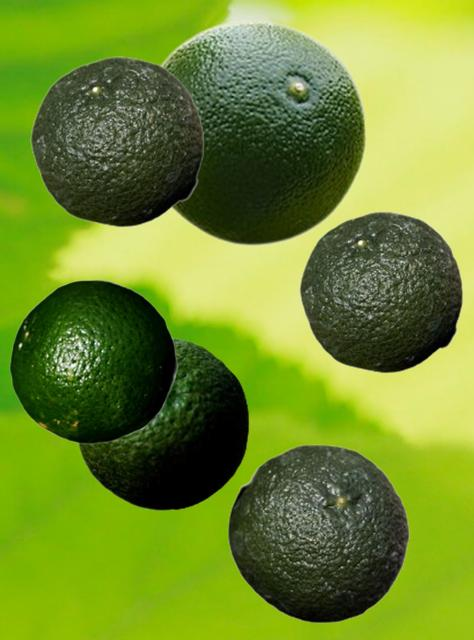calamansi: (159, 19, 367, 245), (227, 444, 409, 622), (76, 336, 248, 510), (30, 56, 203, 226), (9, 279, 177, 443), (299, 211, 462, 372)
